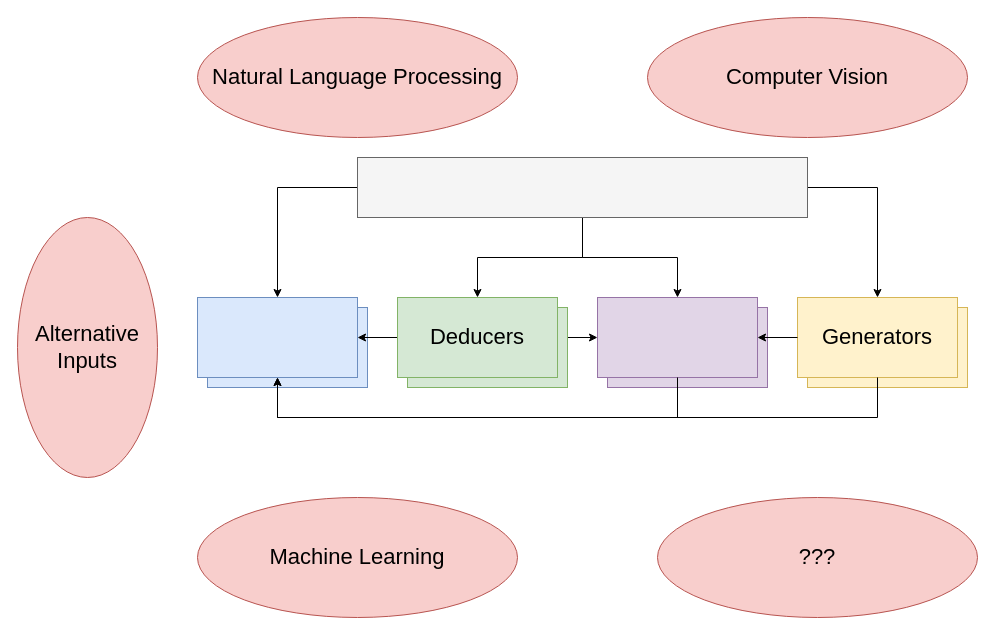
This 995x635 diagram has some shape labels left out. The shapes that lost their labels are listed below. From the top down, each one's centre as x and y in pixels, then its label:
the point at 582,187: Creator
the point at 277,337: Abstractions
the point at 677,337: Metamodels
